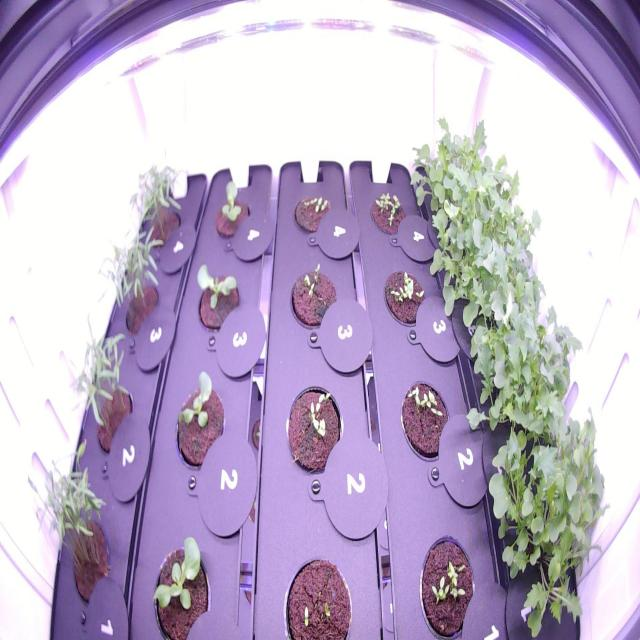germination: (36, 438, 122, 614), (64, 312, 142, 456), (88, 220, 167, 340), (277, 377, 353, 485), (412, 526, 482, 638), (276, 549, 358, 639), (395, 375, 461, 477), (124, 160, 188, 254), (284, 254, 344, 335), (379, 264, 434, 335), (365, 182, 413, 245), (288, 189, 339, 243)
young: (147, 524, 214, 638), (169, 359, 230, 475), (189, 256, 248, 341), (211, 174, 256, 246)
